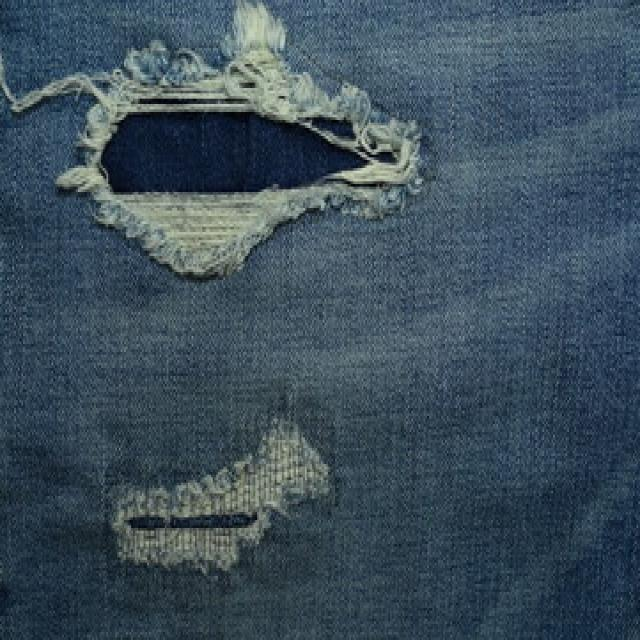Hole: (0, 1, 422, 278), (111, 418, 331, 574)
